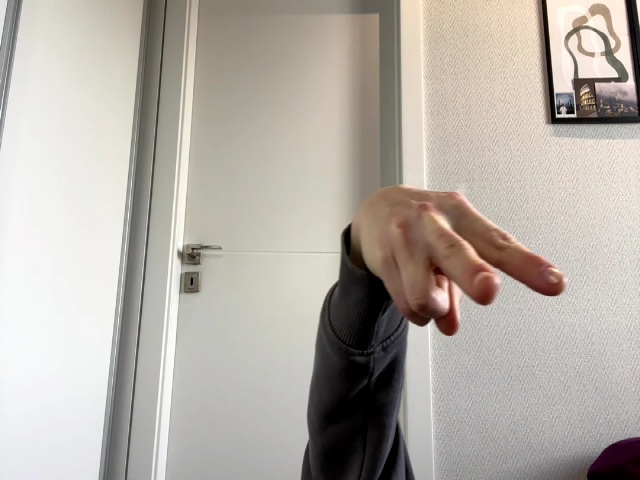U: (349, 185, 567, 334)
